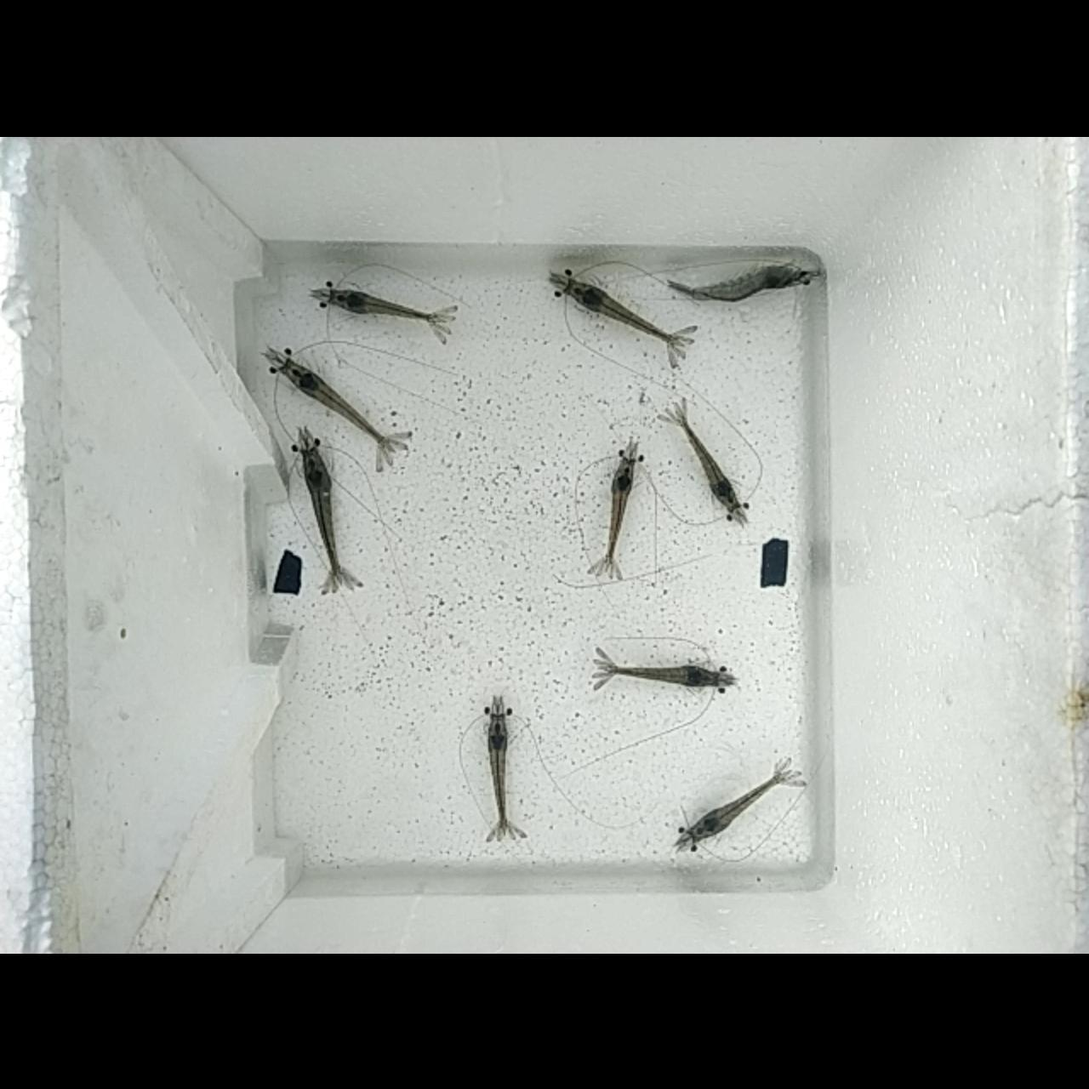box: (762, 541, 788, 584), (274, 551, 299, 590)
side_shrimp: (667, 265, 796, 298)
top_shrimp: (284, 362, 393, 448), (568, 281, 677, 344), (691, 771, 783, 837), (676, 410, 735, 507), (303, 451, 339, 577), (330, 288, 441, 322), (607, 458, 631, 563), (604, 664, 713, 686), (490, 718, 507, 829)
